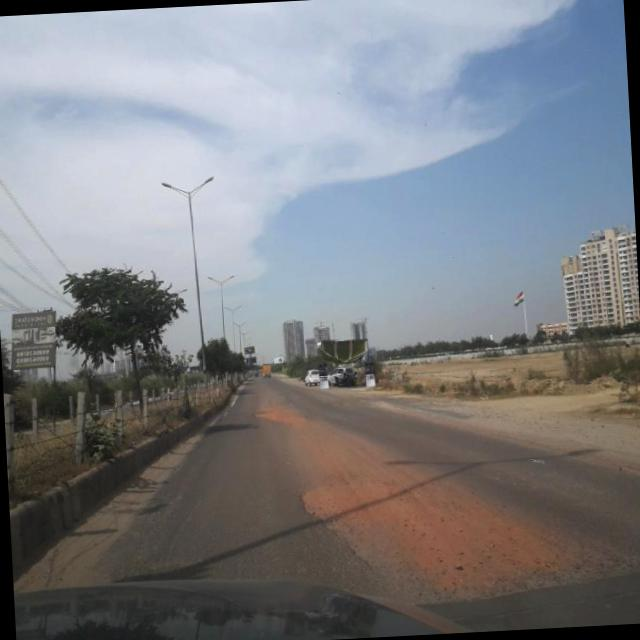pothole: (282, 456, 608, 602), (250, 399, 328, 440)
